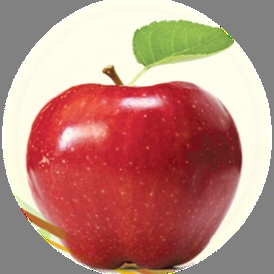apple: (27, 81, 243, 265)
